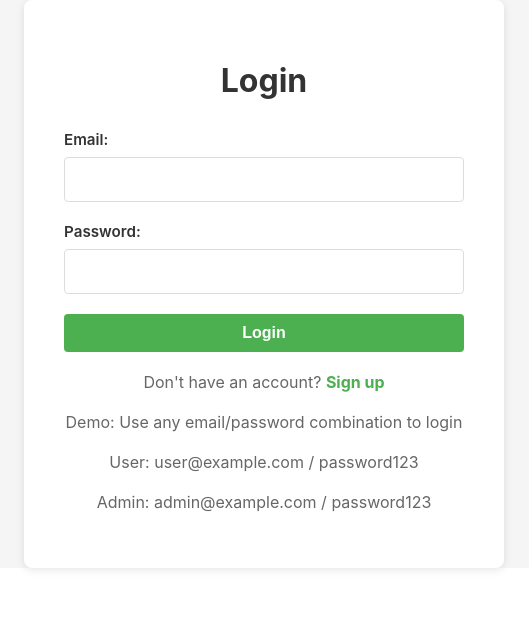
Test: LoginPage › Negative Scenarios › shows validation error when password is empty but email is filled
Type "user@example.com" into the field labelled "Email:" at {"x": 264, "y": 180}, box [64,157,464,202]
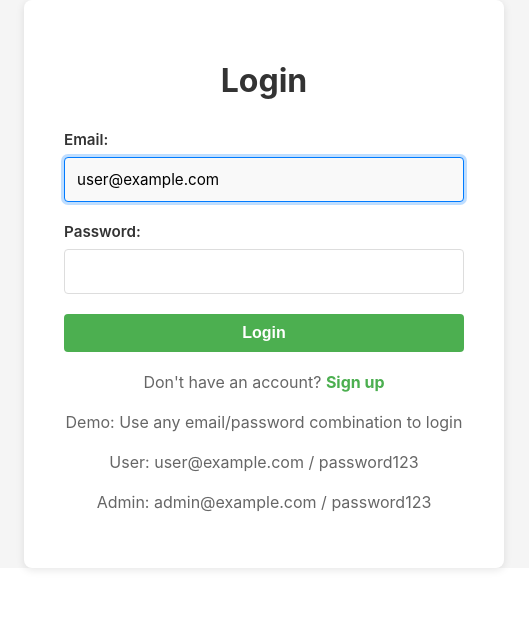
Submit the form "Email: Password: Login", box [64,130,464,352]
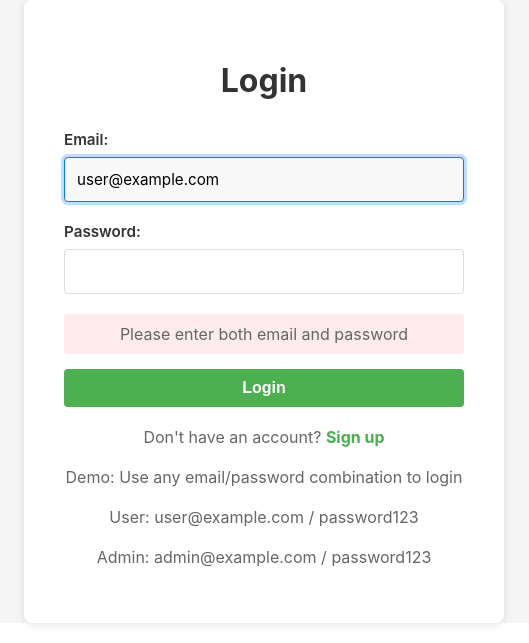
Now the text "Please enter both email and password" is shown, box [64,314,464,354]
